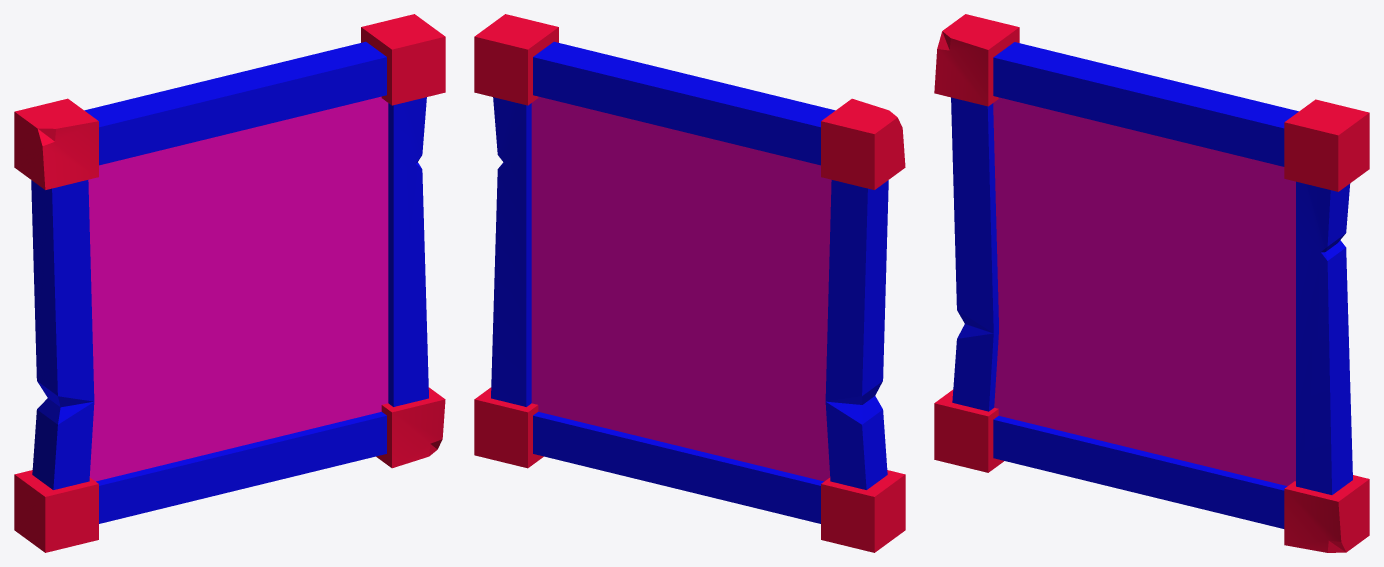
File: CastingRoom_Mould.fbx
3 renders of one model, left to right at view 1: azimuth 30°, elevation 25°; view 2: azimuth 150°, elevation 25°; view 3: azimuth 330°, elevation 25°, orthographic.
Visible parts, largest first — view 1: CastingRoom_Mould; view 2: CastingRoom_Mould; view 3: CastingRoom_Mould.
Boxes of the visible parts, x1,y1,x2,y2 form: CastingRoom_Mould: [14, 14, 445, 552]; CastingRoom_Mould: [474, 14, 905, 552]; CastingRoom_Mould: [934, 14, 1369, 552].
Bounding box in the file's own units: 424 × 424 × 56.68.
